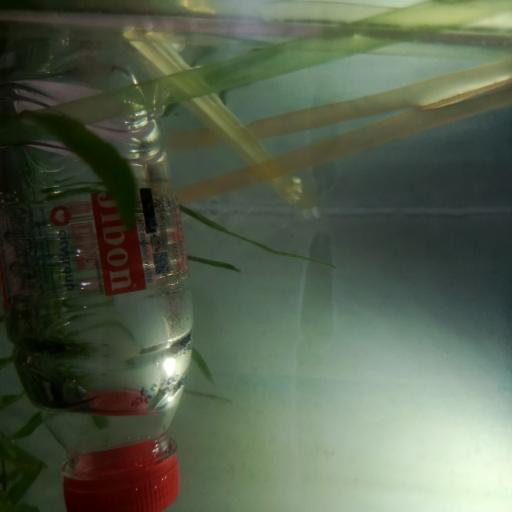bottle_cap: (60, 456, 183, 511)
plastic_bottle: (0, 0, 198, 512)
plastic_straw: (0, 0, 512, 148), (177, 85, 512, 203), (124, 24, 308, 202), (165, 62, 512, 155)
